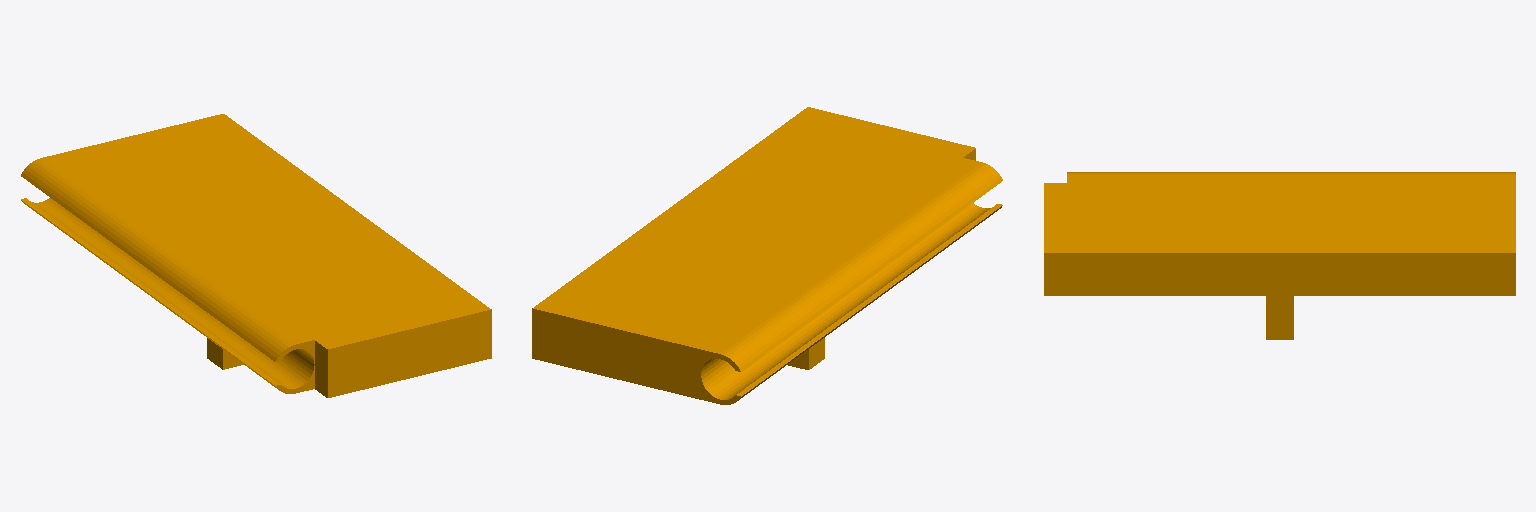
robot.urdf — cabinet_door_left:
<?xml version="1.0"?>
<robot name="cabinet_door_left">
    <link name="cabinet_door_left">
        <visual>
            <geometry>
                <mesh filename="../../mesh/cabinet/cabinet_door_left.obj" scale="1 1 1"/>
            </geometry>
        </visual>
        <collision>
            <geometry>
                <mesh filename="../../mesh/cabinet/cabinet_door_left.obj" scale="1 1 1"/>
            </geometry>
            <sdf resolution="512"/>
        </collision>
        <!-- <inertial>
            <mass value="1."/>
            <inertia ixx="0.0001" ixy="0.0" ixz="0.0" iyy="0.0001" iyz="0.0" izz="0.0001"/>
        </inertial> -->
    </link>
</robot>

--- What the picture shows (computed from the rendered views, not written in the file) ---
The picture shows the robot from 3 angles, left to right: view 1: azimuth 30°, elevation 25°; view 2: azimuth 150°, elevation 25°; view 3: azimuth 270°, elevation 25°; orthographic projection.
Robot: cabinet_door_left — 1 links, 0 joints (none); root link cabinet_door_left; default pose: every joint at zero.
Visible links, largest first — view 1: cabinet_door_left; view 2: cabinet_door_left; view 3: cabinet_door_left.
Link boxes in pixels (left/top/right/bottom): cabinet_door_left: left=21, top=114, right=491, bottom=397; cabinet_door_left: left=532, top=107, right=1002, bottom=404; cabinet_door_left: left=1044, top=172, right=1515, bottom=339.
Bounding box of the posed robot: 0.0542 × 0.1238 × 0.03 m (x, y, z).
Meshes: 1 distinct files referenced, 1 mesh visuals loaded (1 OBJ).